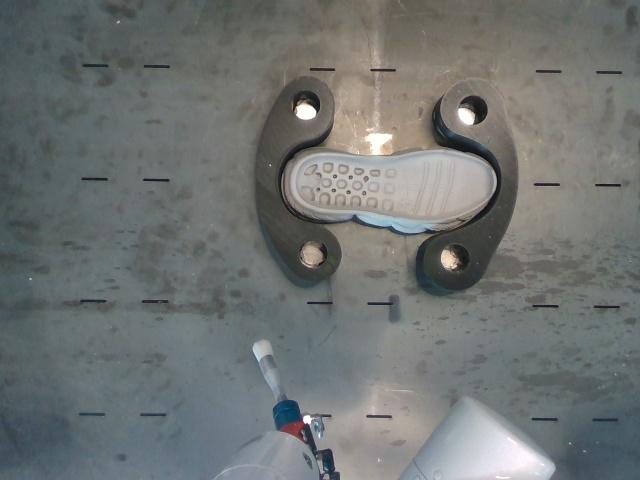shoes: (295, 152, 495, 220)
